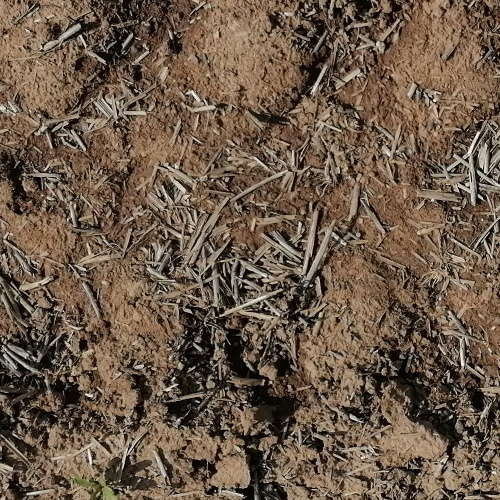beet: (79, 472, 114, 500)
